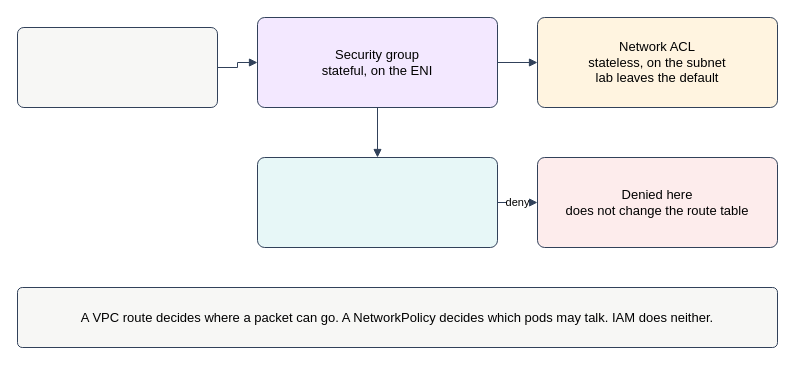
The diagram is 795 pixels wide and 365 high, and some of its shapes have lost their labels. The shapes that lost their labels are listed below. From the top down, each one's box as (x1, y1, x2, y2) in pixels, then its label:
(16, 26, 218, 108): Packet
(256, 156, 498, 248): NetworkPolicy VPC CNI enforcement namespace lab only
